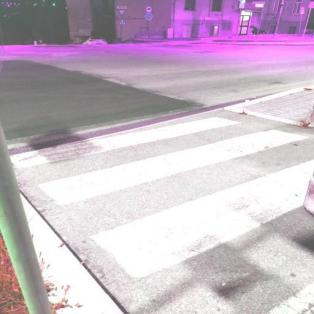Paso de Cebra: (6, 106, 314, 210)
